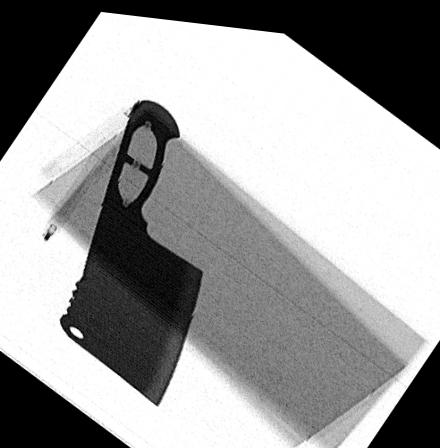Knife: (60, 94, 204, 405)
